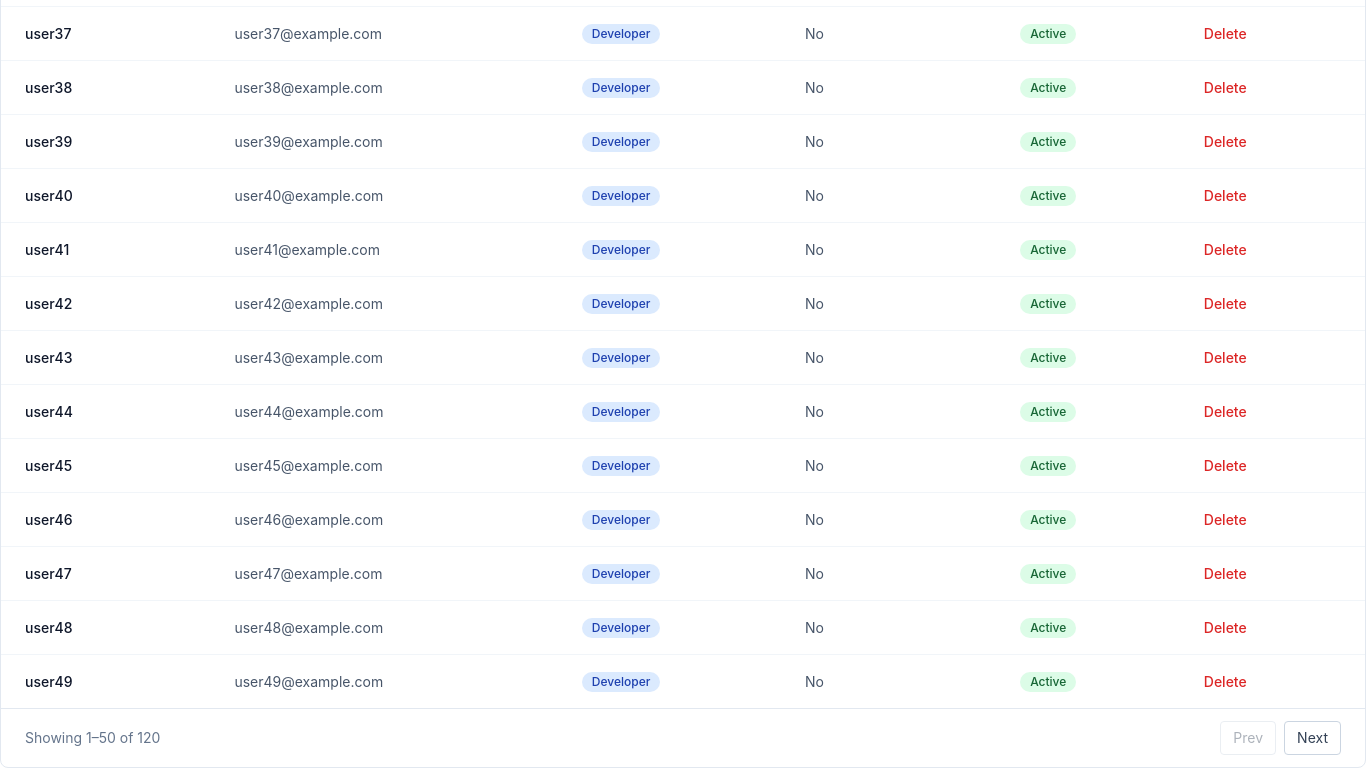
Test: UserTable › Next and Prev move by a page, and are disabled at the ends
(page scrolled)
expect the text with test id "user-page-info" reads "Showing 1–50 of 120": met, box [25,728,160,748]
expect the button with test id "user-page-prev" is disabled: met, box [1220,721,1276,755]
Click the button with test id "user-page-next": (1313, 738) [1284,721,1341,755]
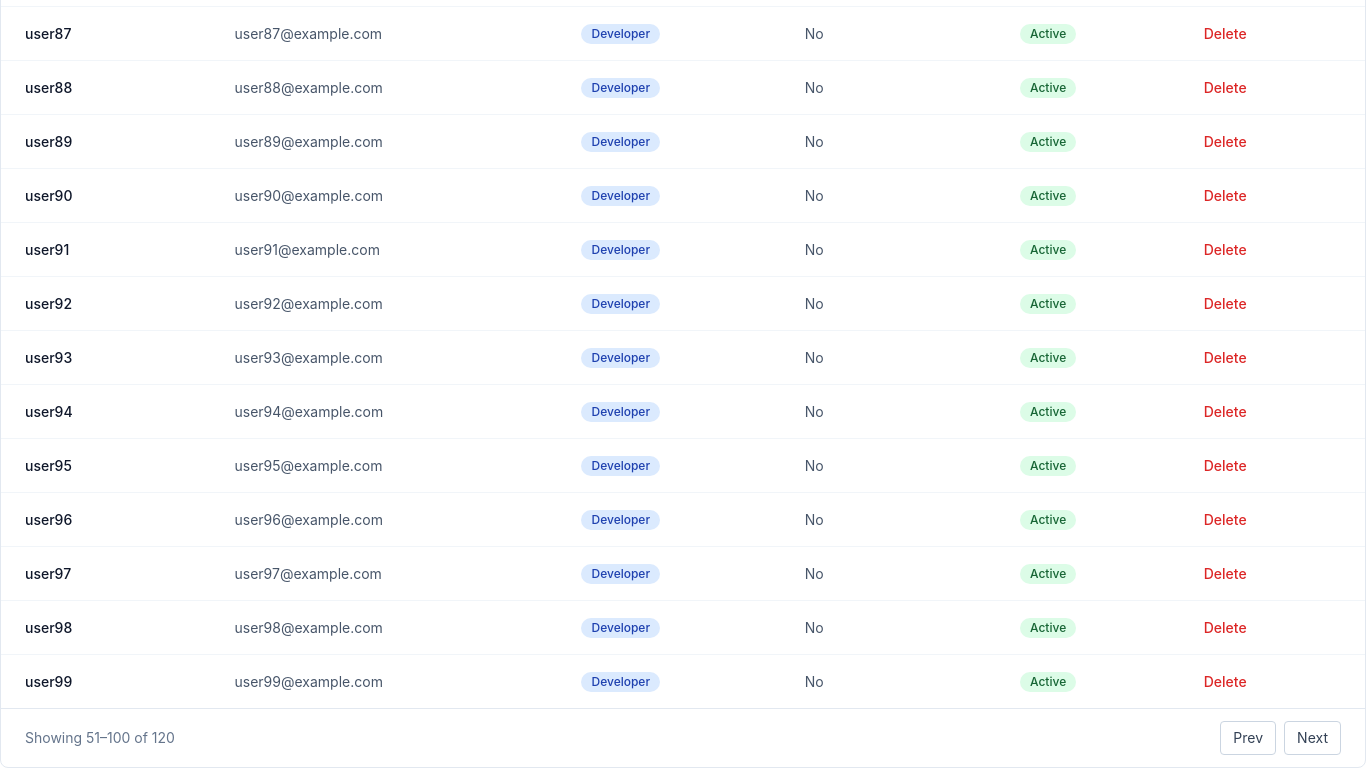
expect the text with test id "user-page-info" reads "Showing 51–100 of 120": met, box [25,728,175,748]
expect the button with test id "user-page-prev" is enabled: met, box [1220,721,1276,755]
Click the button with test id "user-page-next": (1313, 738) [1284,721,1341,755]
(page scrolled)
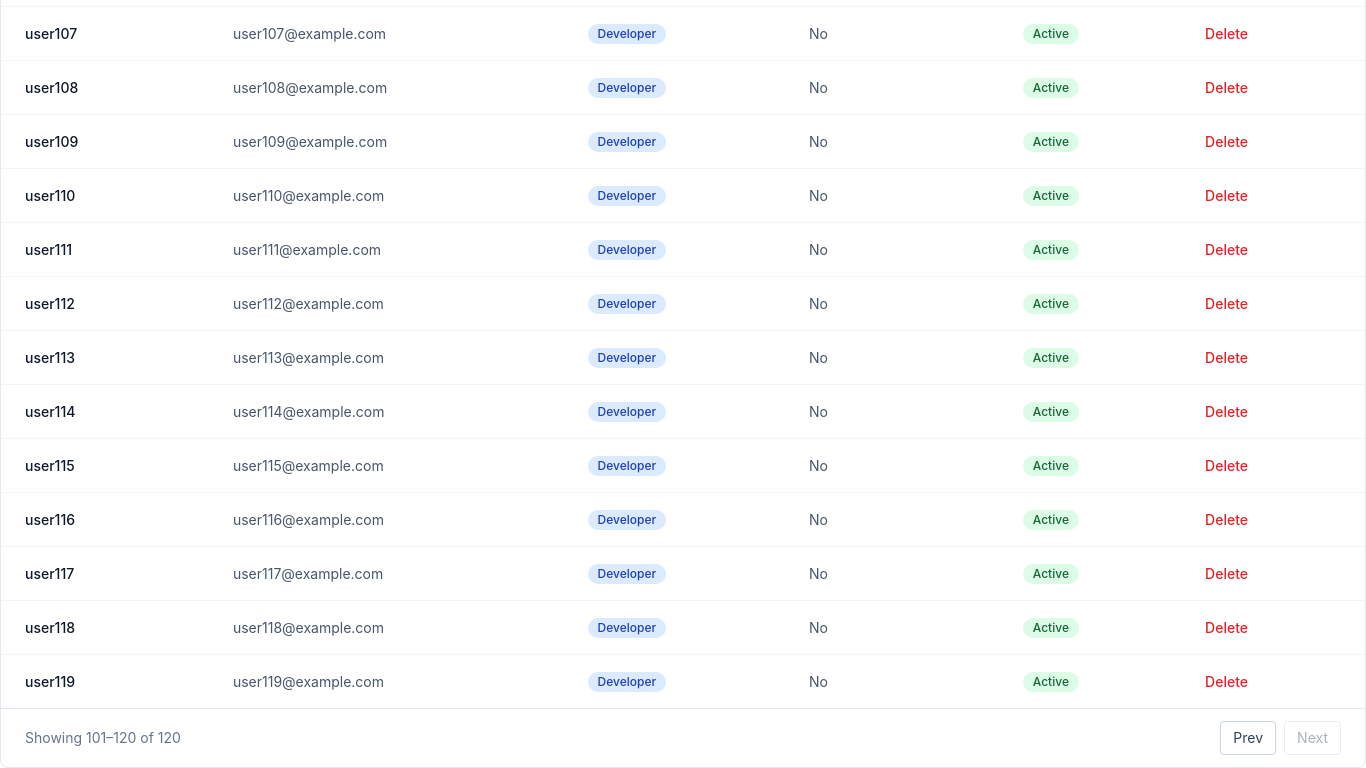
expect the text with test id "user-page-info" reads "Showing 101–120 of 120": met, box [25,728,181,748]
expect the button with test id "user-page-next" is disabled: met, box [1284,721,1341,755]
Click the button with test id "user-page-prev": (1248, 738) [1220,721,1276,755]
(page scrolled)
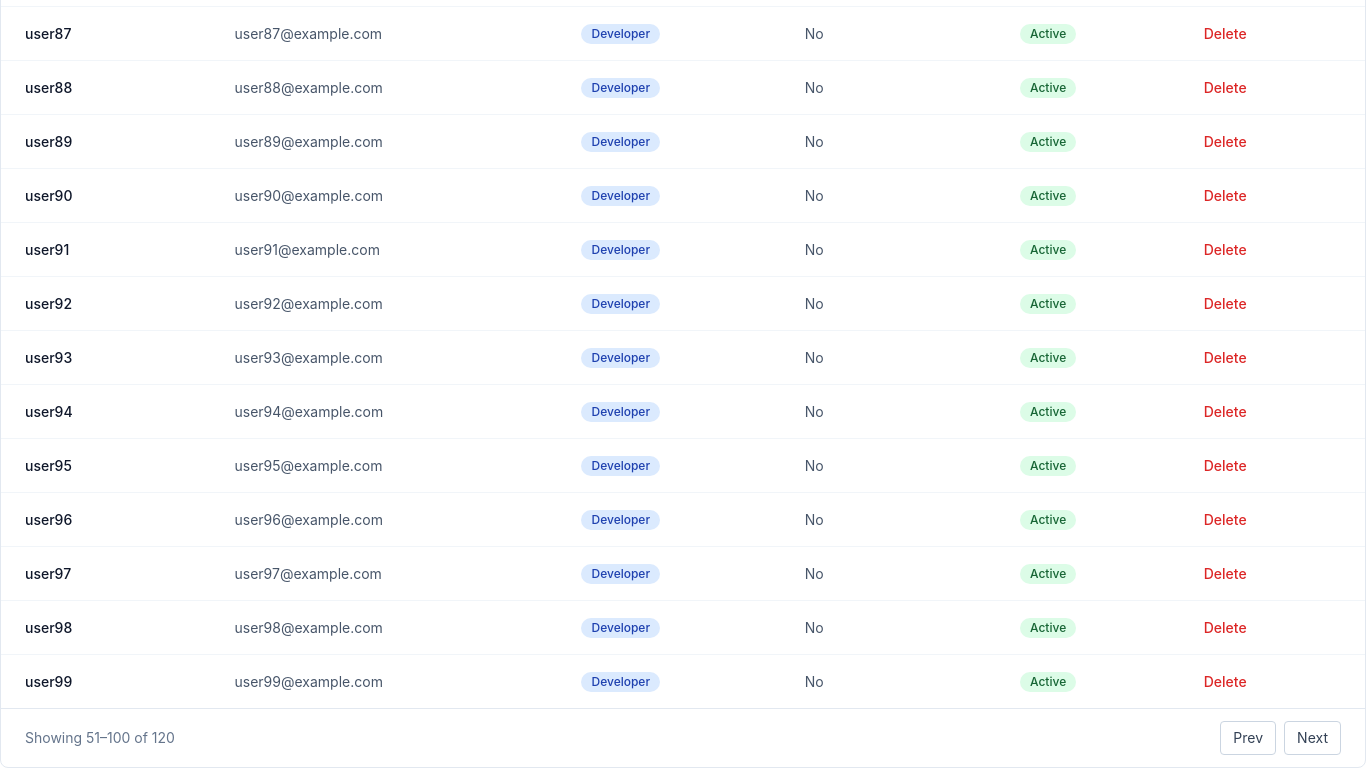
expect the text with test id "user-page-info" reads "Showing 51–100 of 120": met, box [25,728,175,748]
